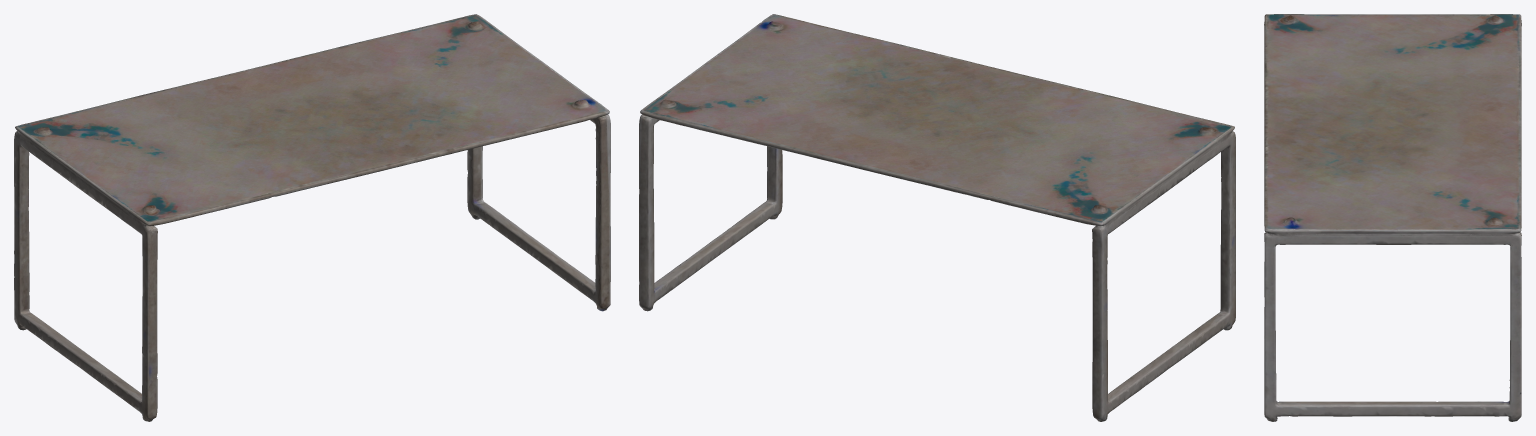
The model's file is meshy_01971a7f-d950-7e7c-86c4-2b47b41e37dc.glb.
3 views of the same model, side by side, from view 1: azimuth 30°, elevation 25°; view 2: azimuth 150°, elevation 25°; view 3: azimuth 270°, elevation 25° (orthographic). The views are drawn at different scales.
Parts seen in each view (by area): view 1: file1; view 2: file1; view 3: file1.
Part boxes in pixels (box(x1,y1,x2,y2)): file1: box(14, 14, 610, 421); file1: box(639, 14, 1235, 421); file1: box(1264, 14, 1521, 421).
Bounding box in the file's own units: 2.01 × 0.8496 × 1.01.
1 material, 1 textured.
